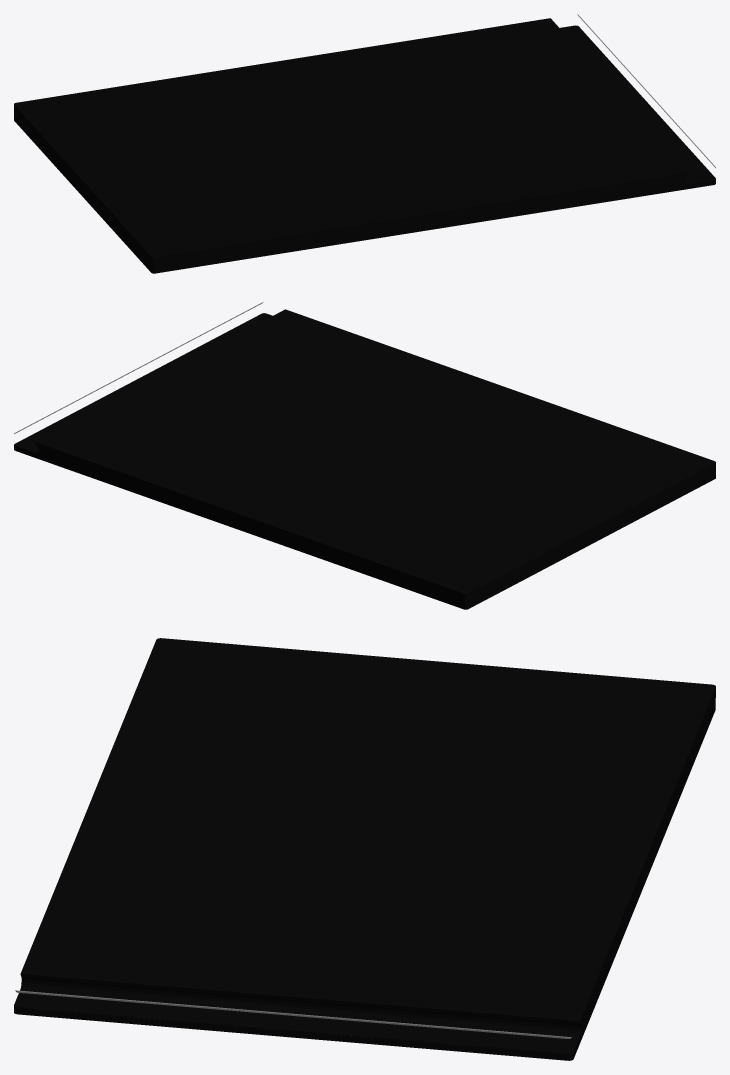
3 renders of one model, top to bottom at view 1: azimuth 30°, elevation 25°; view 2: azimuth 150°, elevation 25°; view 3: azimuth 270°, elevation 25°, orthographic. The views are drawn at different scales.
Visible parts, largest first — view 1: node_id3; view 2: node_id3; view 3: node_id3.
Part boxes in pixels (<box>): node_id3: <box>14,14,715,273</box>; node_id3: <box>14,302,715,609</box>; node_id3: <box>14,638,715,1060</box>.
Bounding box in the file's own units: 0.842 × 0.0314 × 0.633.
Materials: 1 (1 with a texture image).
